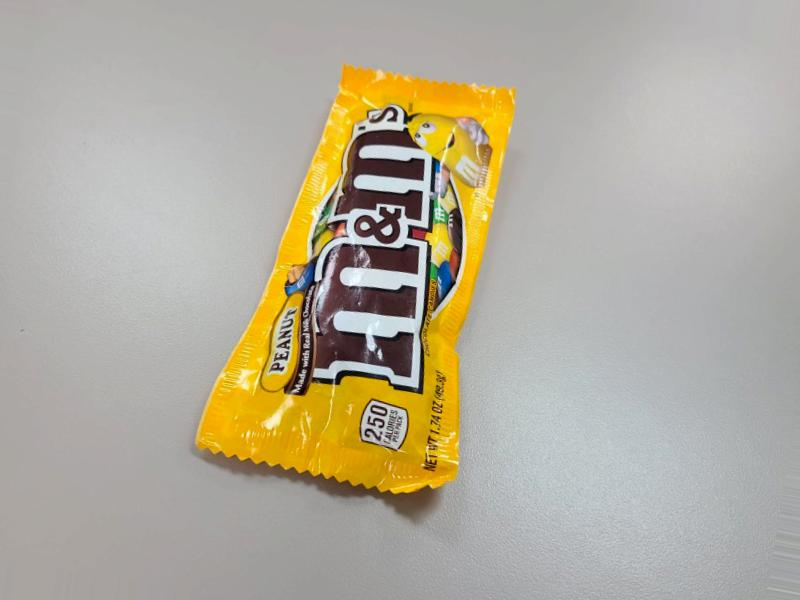m&m: (198, 59, 512, 478)
